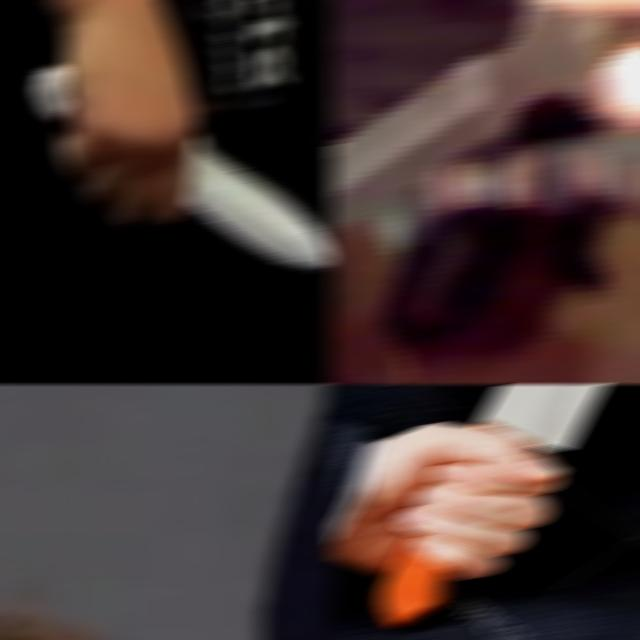Knife_Handle: (328, 0, 640, 294), (358, 384, 640, 640), (35, 64, 334, 268), (0, 432, 116, 640)
